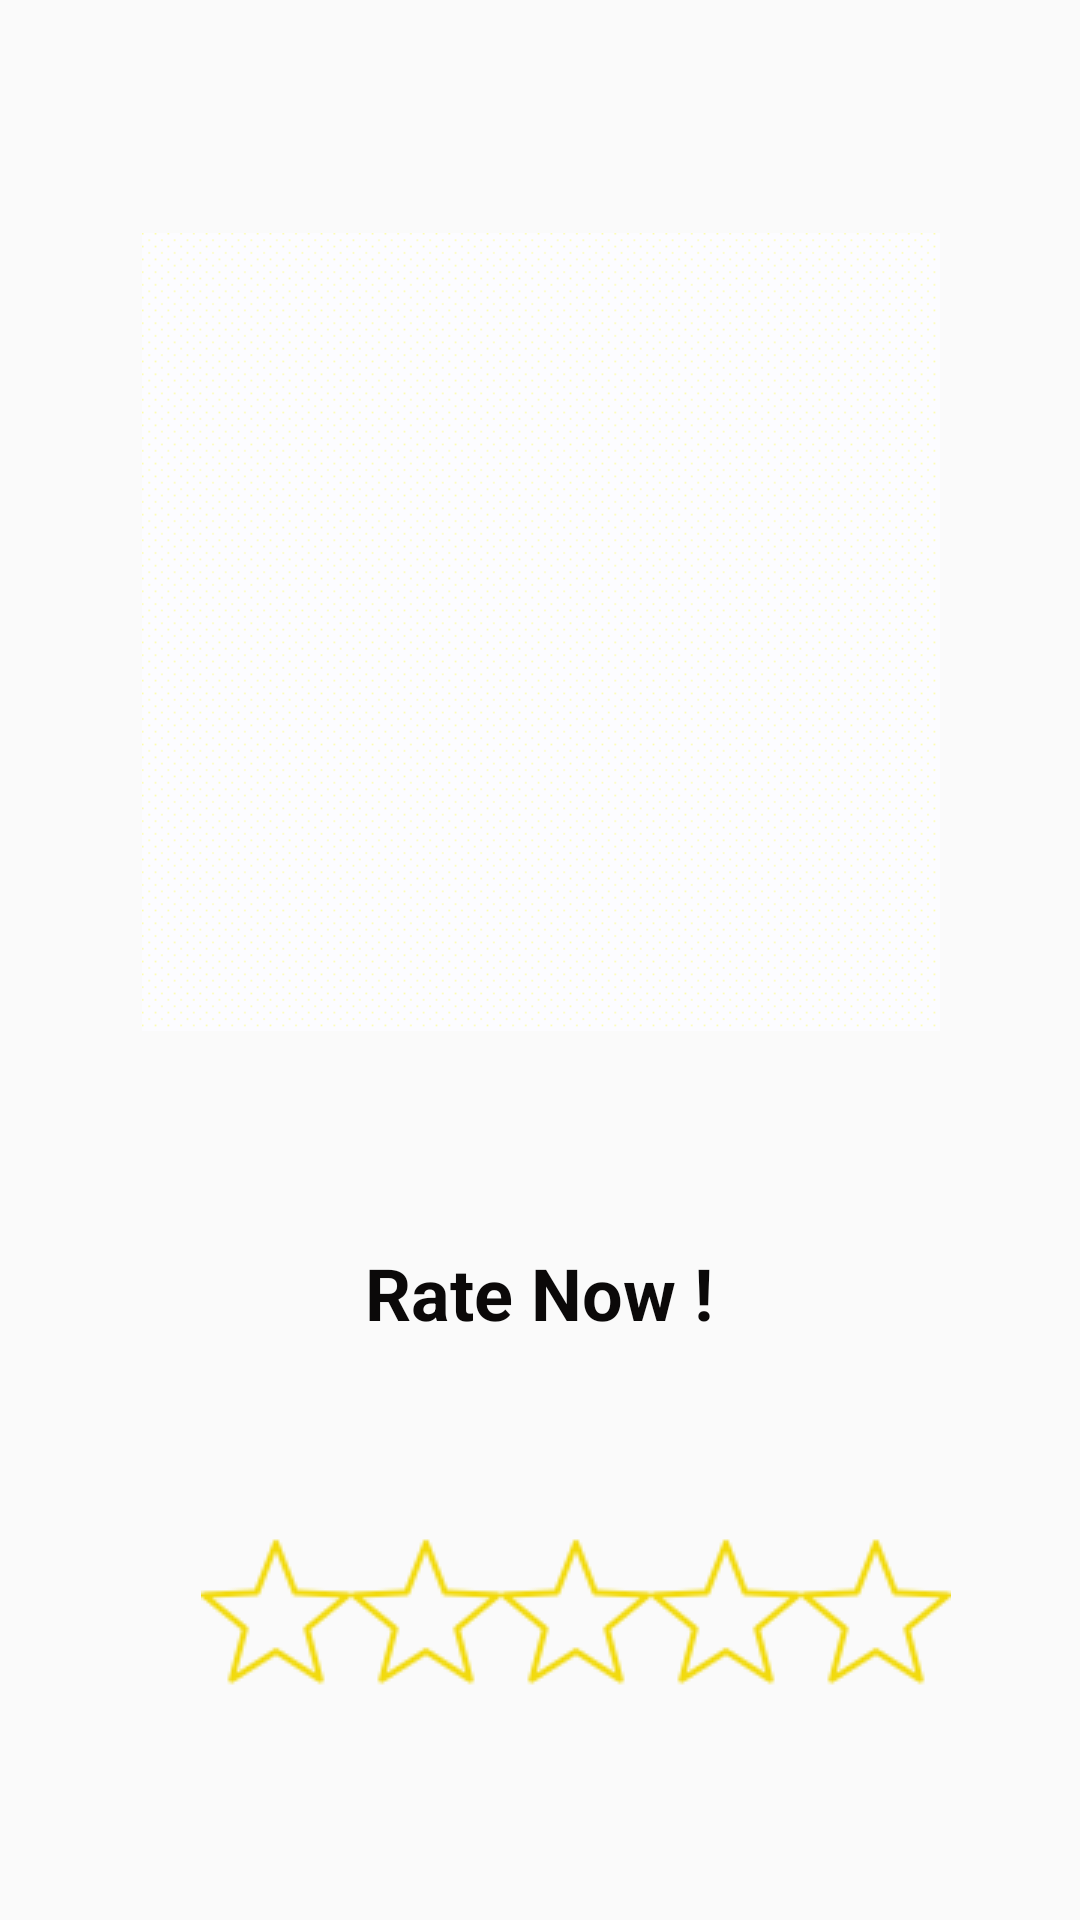

Icon bounding boxes for this 1080px x 1920px phone screenshot, format (x1, y1, x2, y2):
star empty: (201, 1539, 351, 1685), (351, 1539, 501, 1685), (501, 1539, 651, 1685), (651, 1539, 801, 1685), (801, 1539, 951, 1685)
